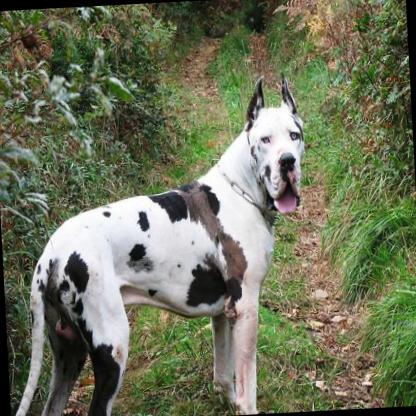Great_Dane: (0, 70, 316, 416)
